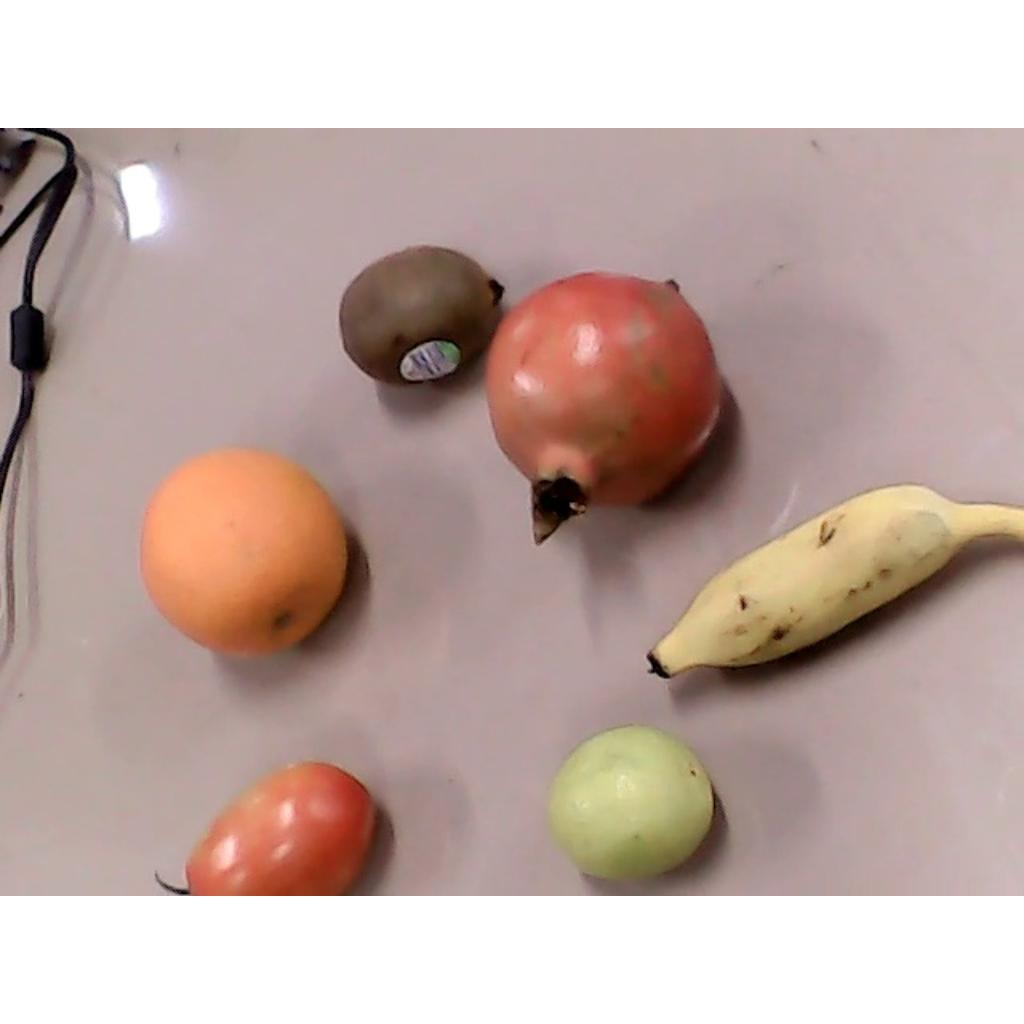kiwi: (339, 246, 505, 384)
lemon: (549, 725, 715, 879)
orange: (138, 450, 348, 657)
pomegranate: (485, 269, 719, 548)
tomato: (153, 760, 376, 894)
